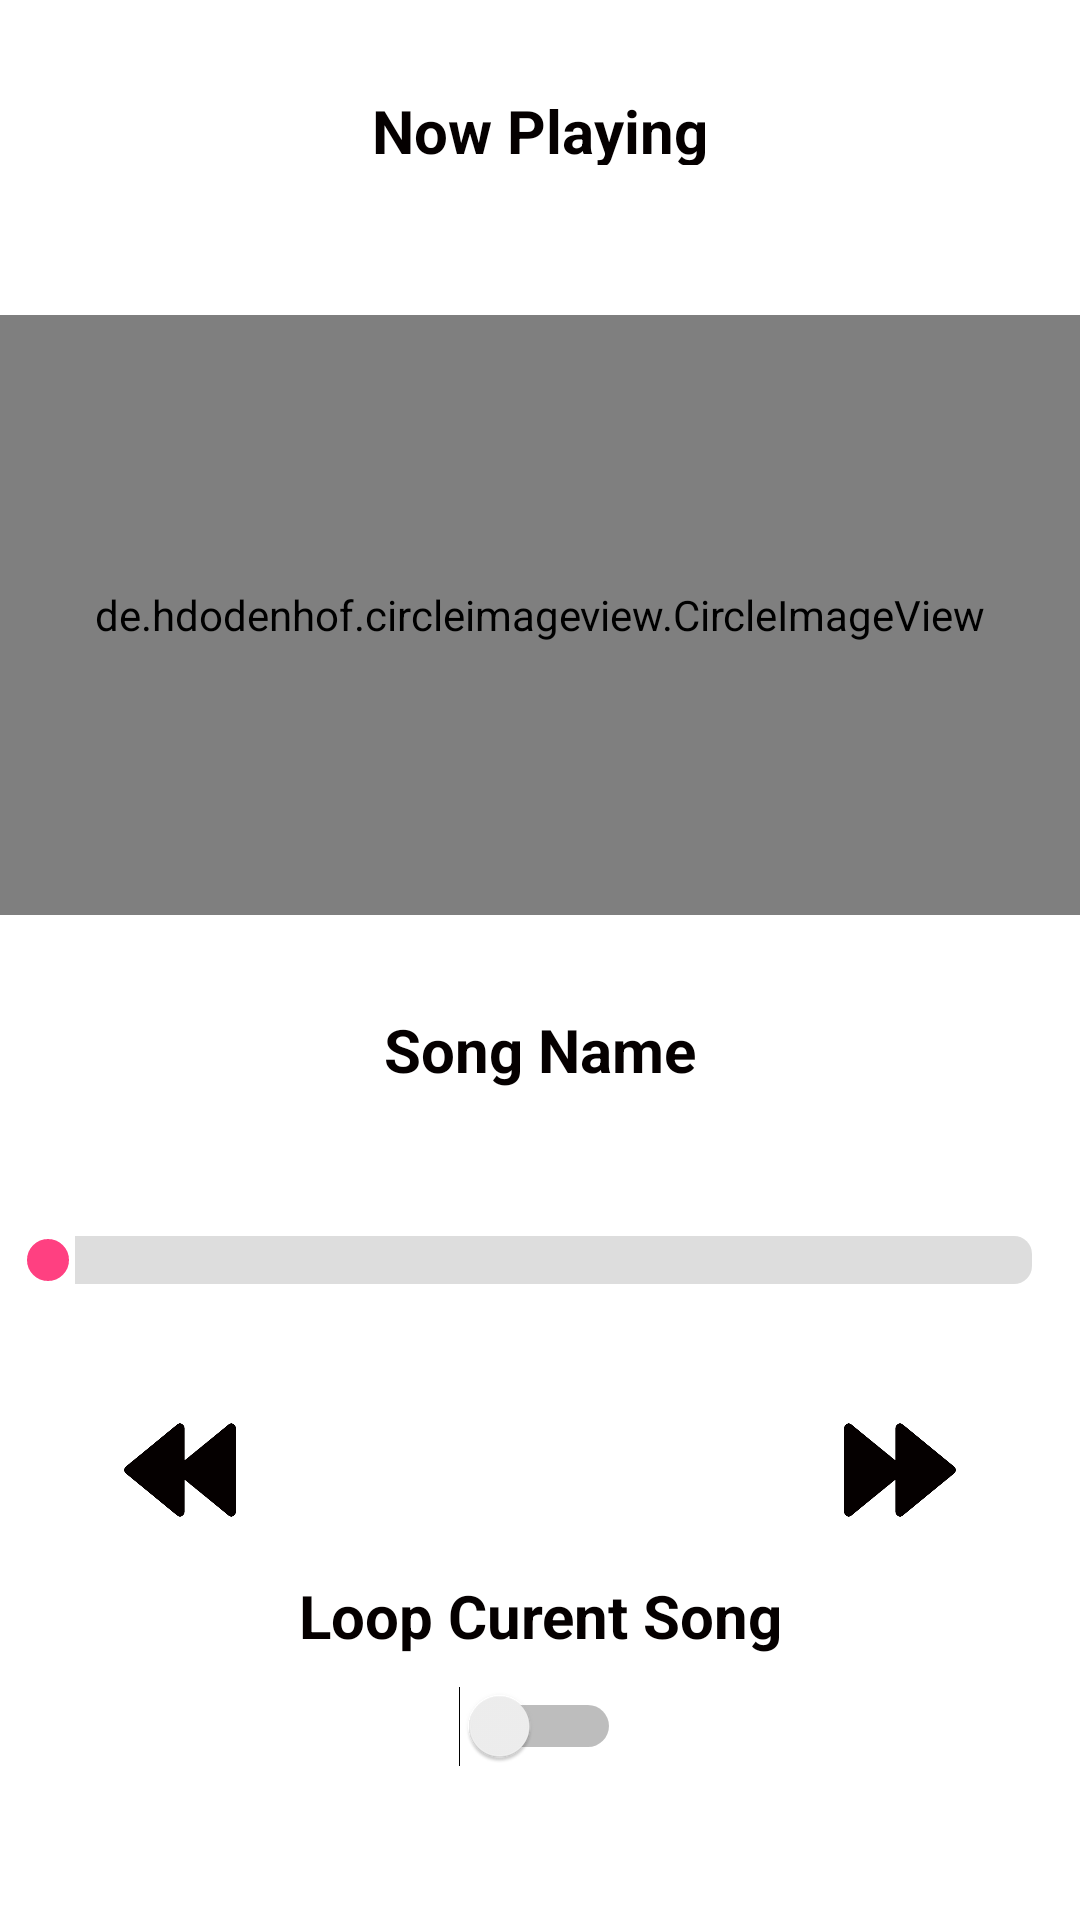

Named icons in this screenshot (1080*1920) and their bounding boxes, rect(x1, y1, x2, y2):
backward: rect(124, 1423, 236, 1517)
forward: rect(844, 1423, 956, 1517)
